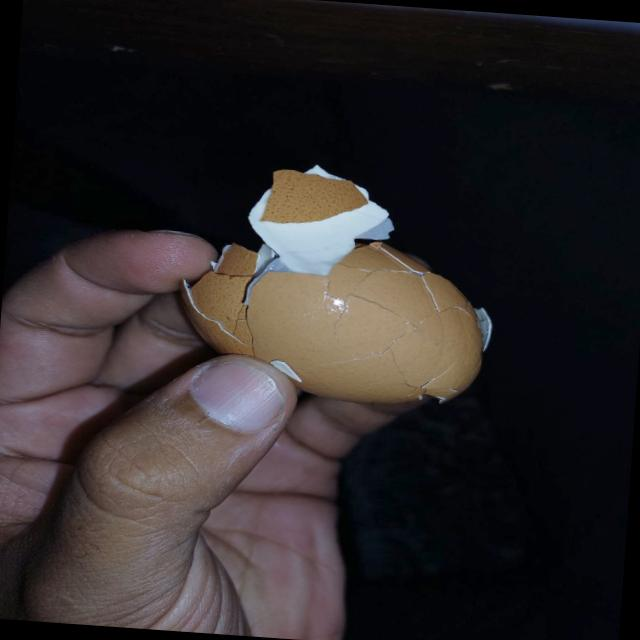organic: (173, 150, 500, 412)
